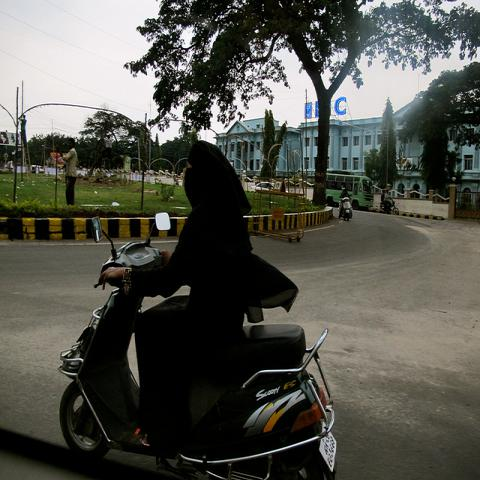bus: (326, 172, 375, 207)
motorcycle: (59, 289, 340, 473), (379, 196, 399, 215), (339, 193, 352, 222)
